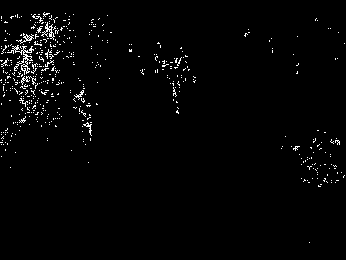person: (73, 90, 97, 143)
